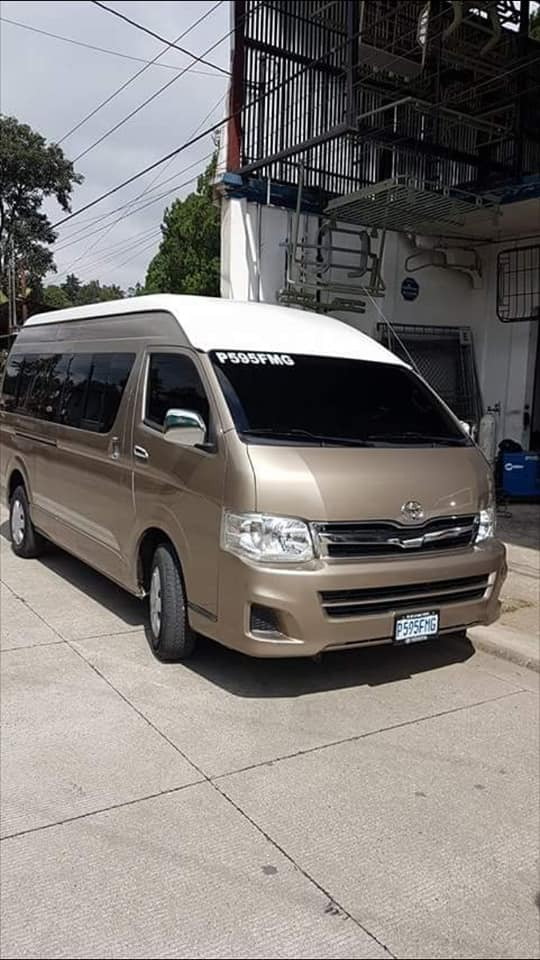bus: (6, 289, 511, 688)
